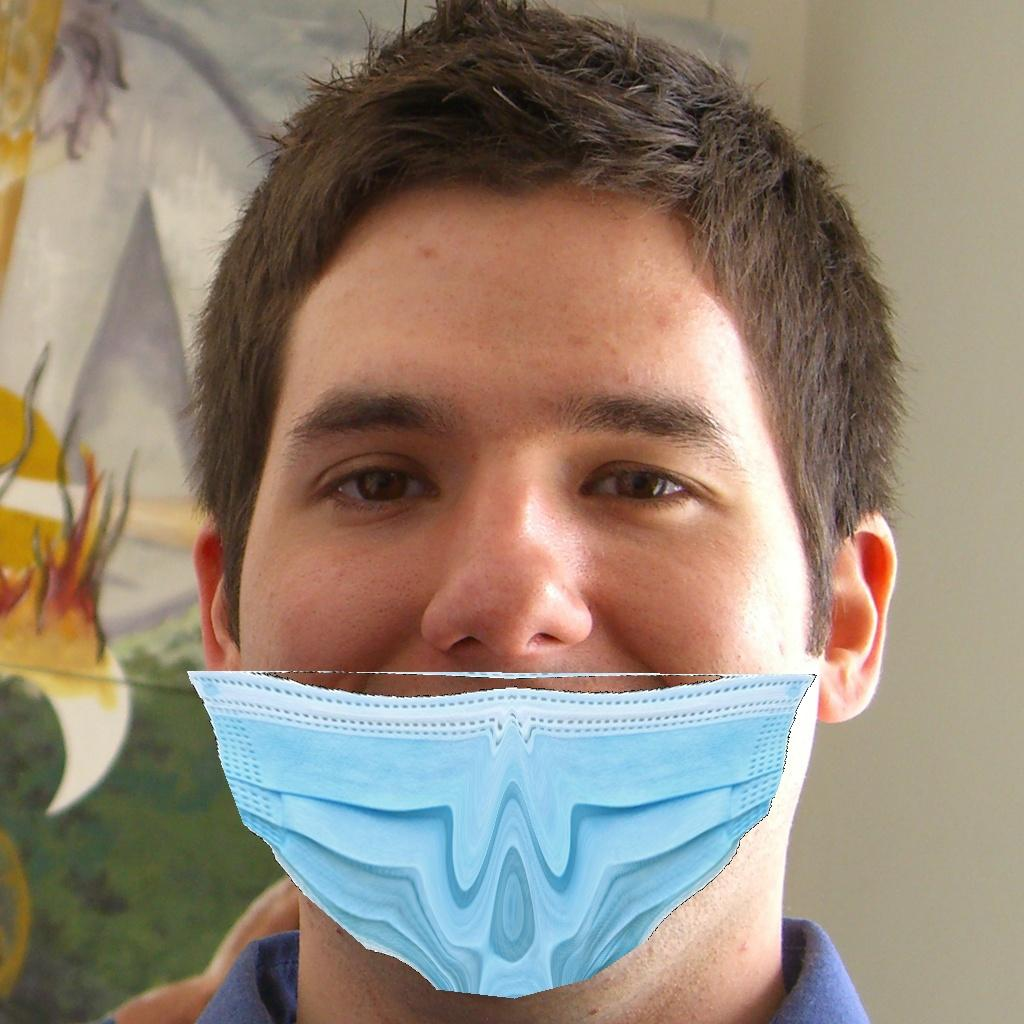Máscara Incorreta: (243, 270, 780, 963)
